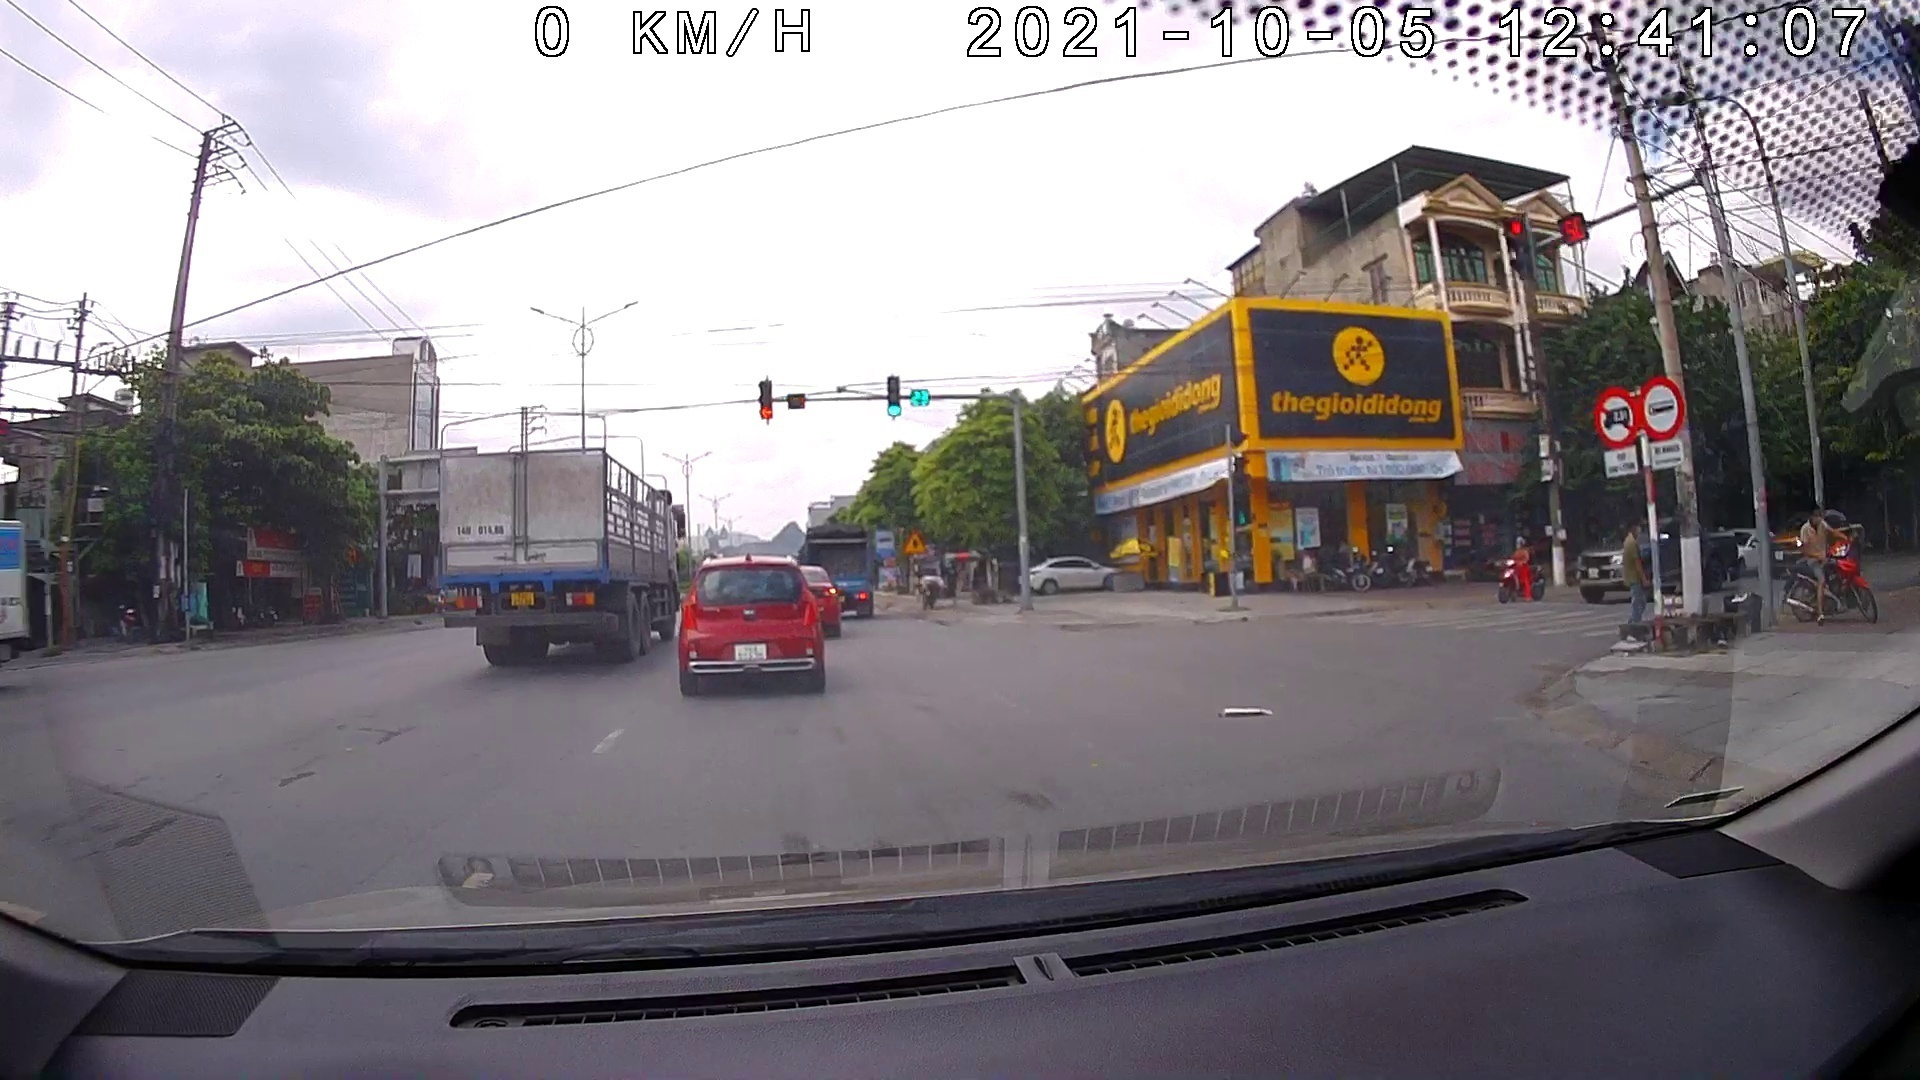Giao nhau voi duong khong uu tien: (1639, 376, 1684, 440), (1594, 382, 1638, 444), (903, 530, 924, 556)
